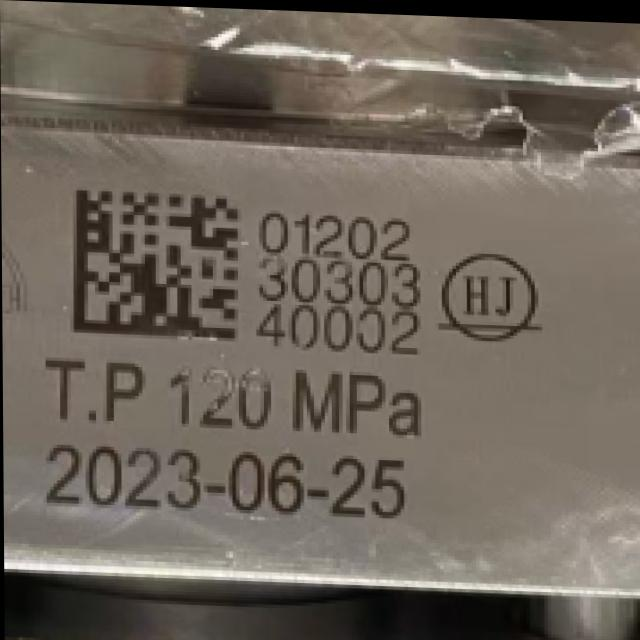dmc: (73, 189, 239, 337)
